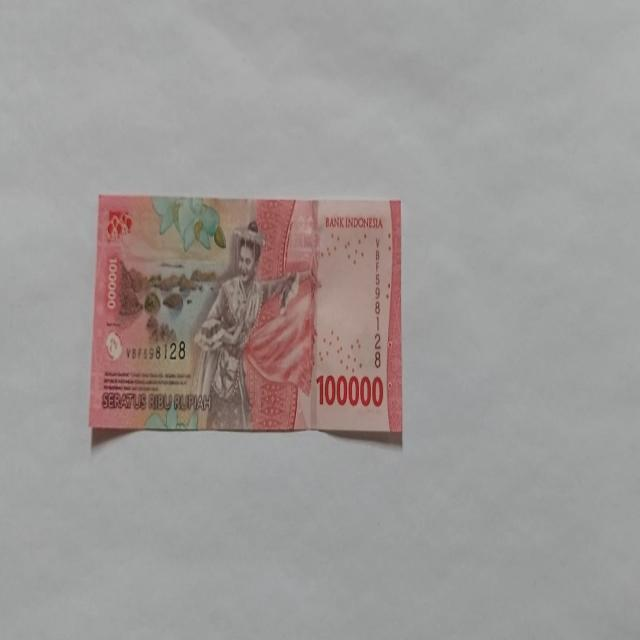seratus ribu rupiah: (88, 194, 403, 441), (190, 220, 304, 430)
